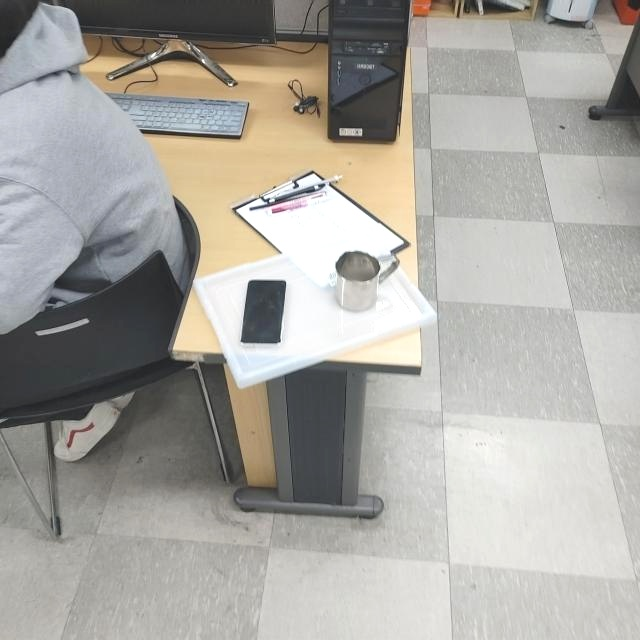cup: (332, 247, 400, 314)
phone: (239, 277, 289, 348)
